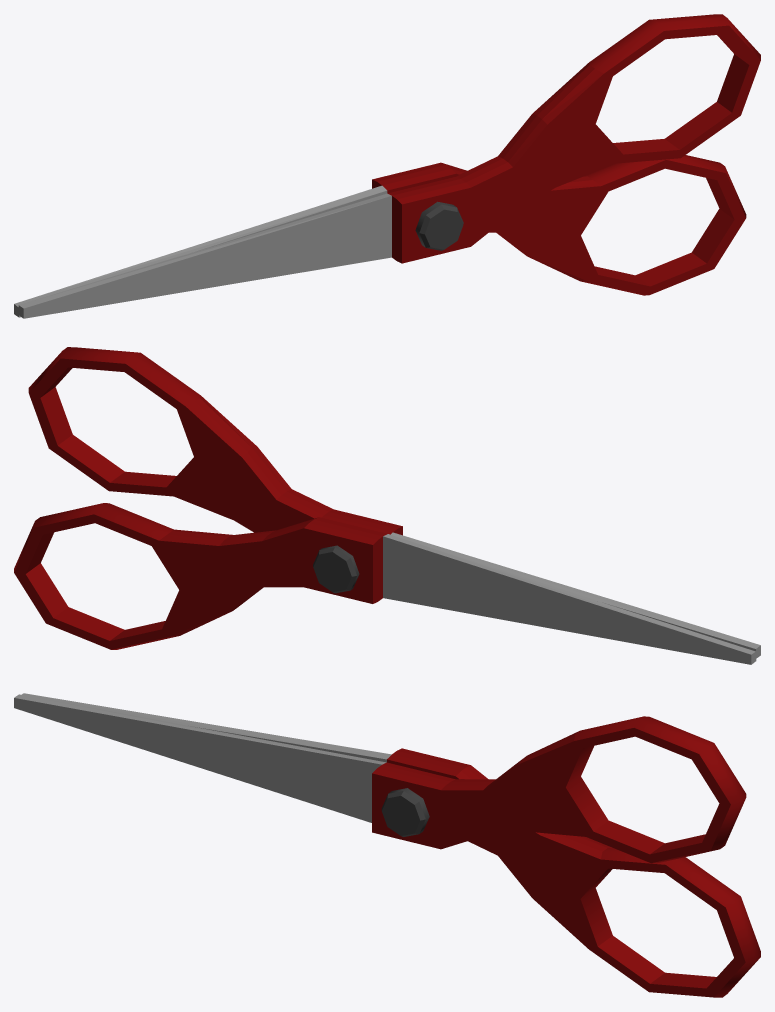
Rendered from Tijera.FBX.
The picture shows the model from 3 angles, top to bottom: view 1: azimuth 30°, elevation 25°; view 2: azimuth 150°, elevation 25°; view 3: azimuth 330°, elevation 25°; orthographic projection.
Visible parts, largest first — view 1: Cylinder001; view 2: Cylinder001; view 3: Cylinder001.
Part boxes in pixels (x1,y1,x2,y2): Cylinder001: (14,14,760,318); Cylinder001: (14,347,760,664); Cylinder001: (14,693,760,997).
Bounding box in the file's own units: 10.75 × 3.97 × 1.05.
